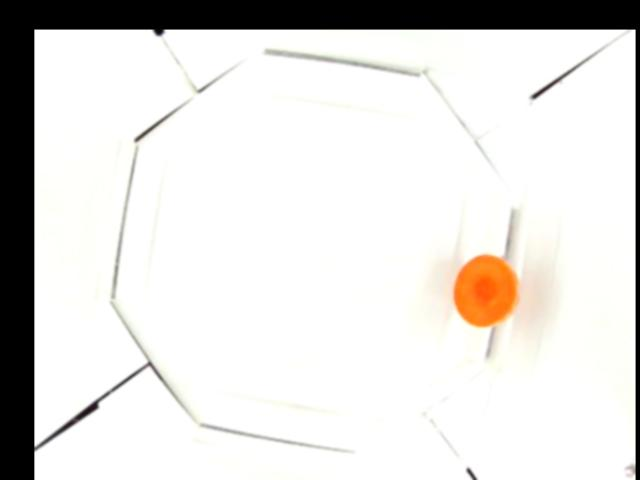Carrot: (451, 254, 518, 326)
